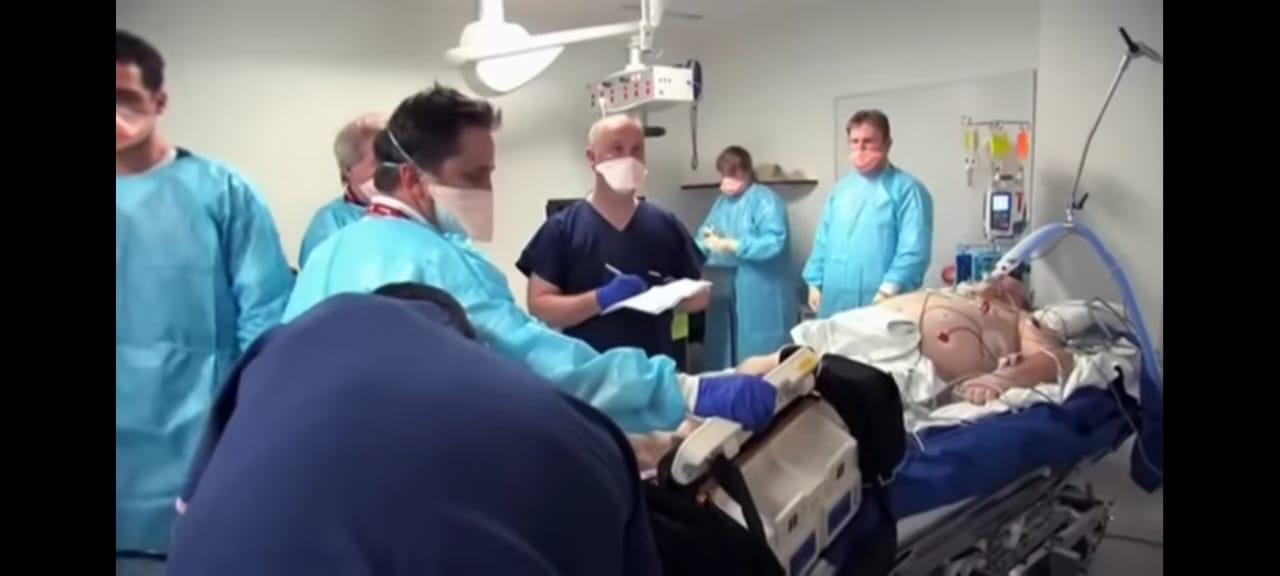doctor: (117, 28, 288, 344), (518, 107, 704, 357), (357, 79, 518, 315), (798, 107, 937, 316), (688, 137, 795, 350), (311, 113, 380, 220)
patient: (795, 268, 1086, 415)
